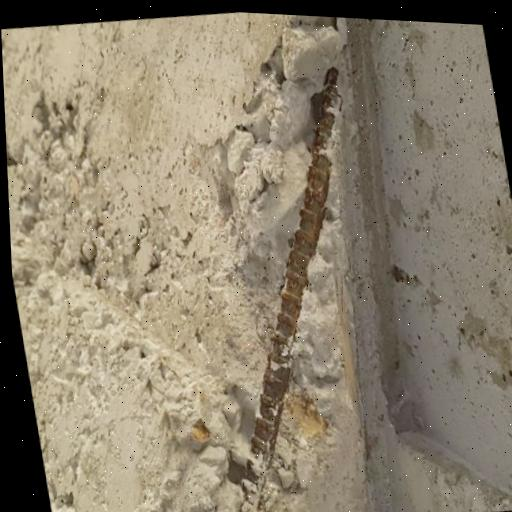exposed_rebar: (247, 67, 342, 500)
